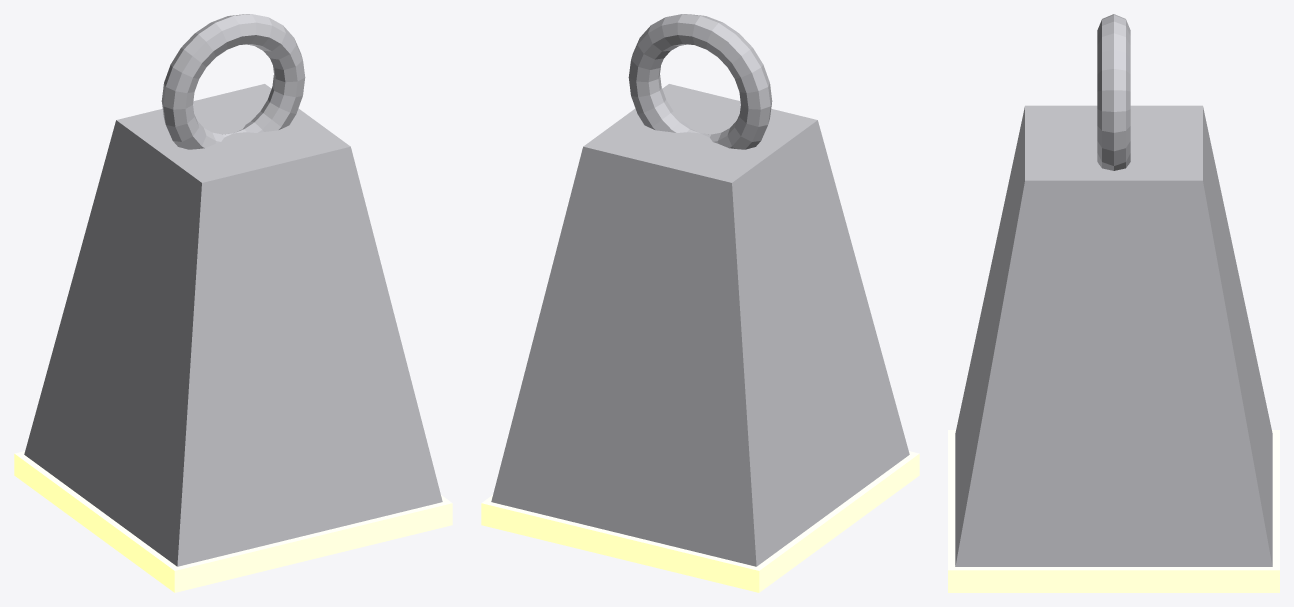
File: cowbell.glb
The picture shows the model from 3 angles, left to right: view 1: azimuth 30°, elevation 25°; view 2: azimuth 150°, elevation 25°; view 3: azimuth 270°, elevation 25°; orthographic projection. The views are drawn at different scales.
Visible parts, largest first — view 1: cowbell; view 2: cowbell; view 3: cowbell.
Part boxes in pixels (box(x1,y1,x2,y2)): cowbell: box(14, 14, 452, 592); cowbell: box(481, 14, 919, 592); cowbell: box(948, 14, 1279, 592).
Bounding box in the file's own units: 0.792 × 1.32 × 0.792.
